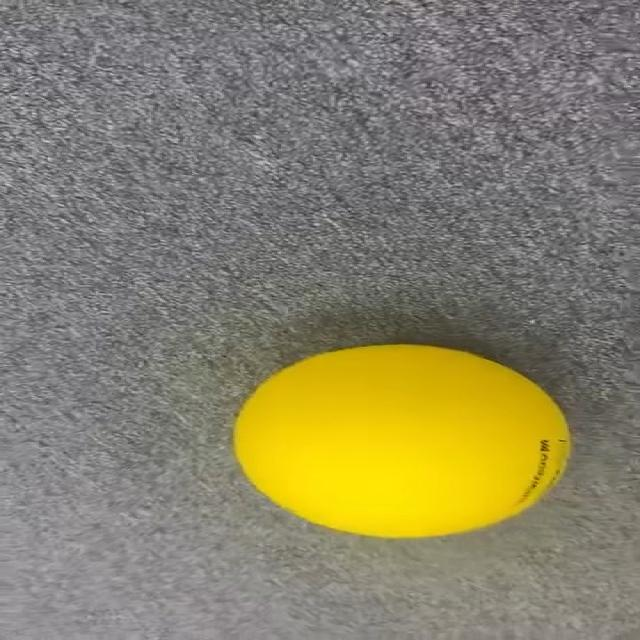Fuels: (235, 345, 569, 536)
